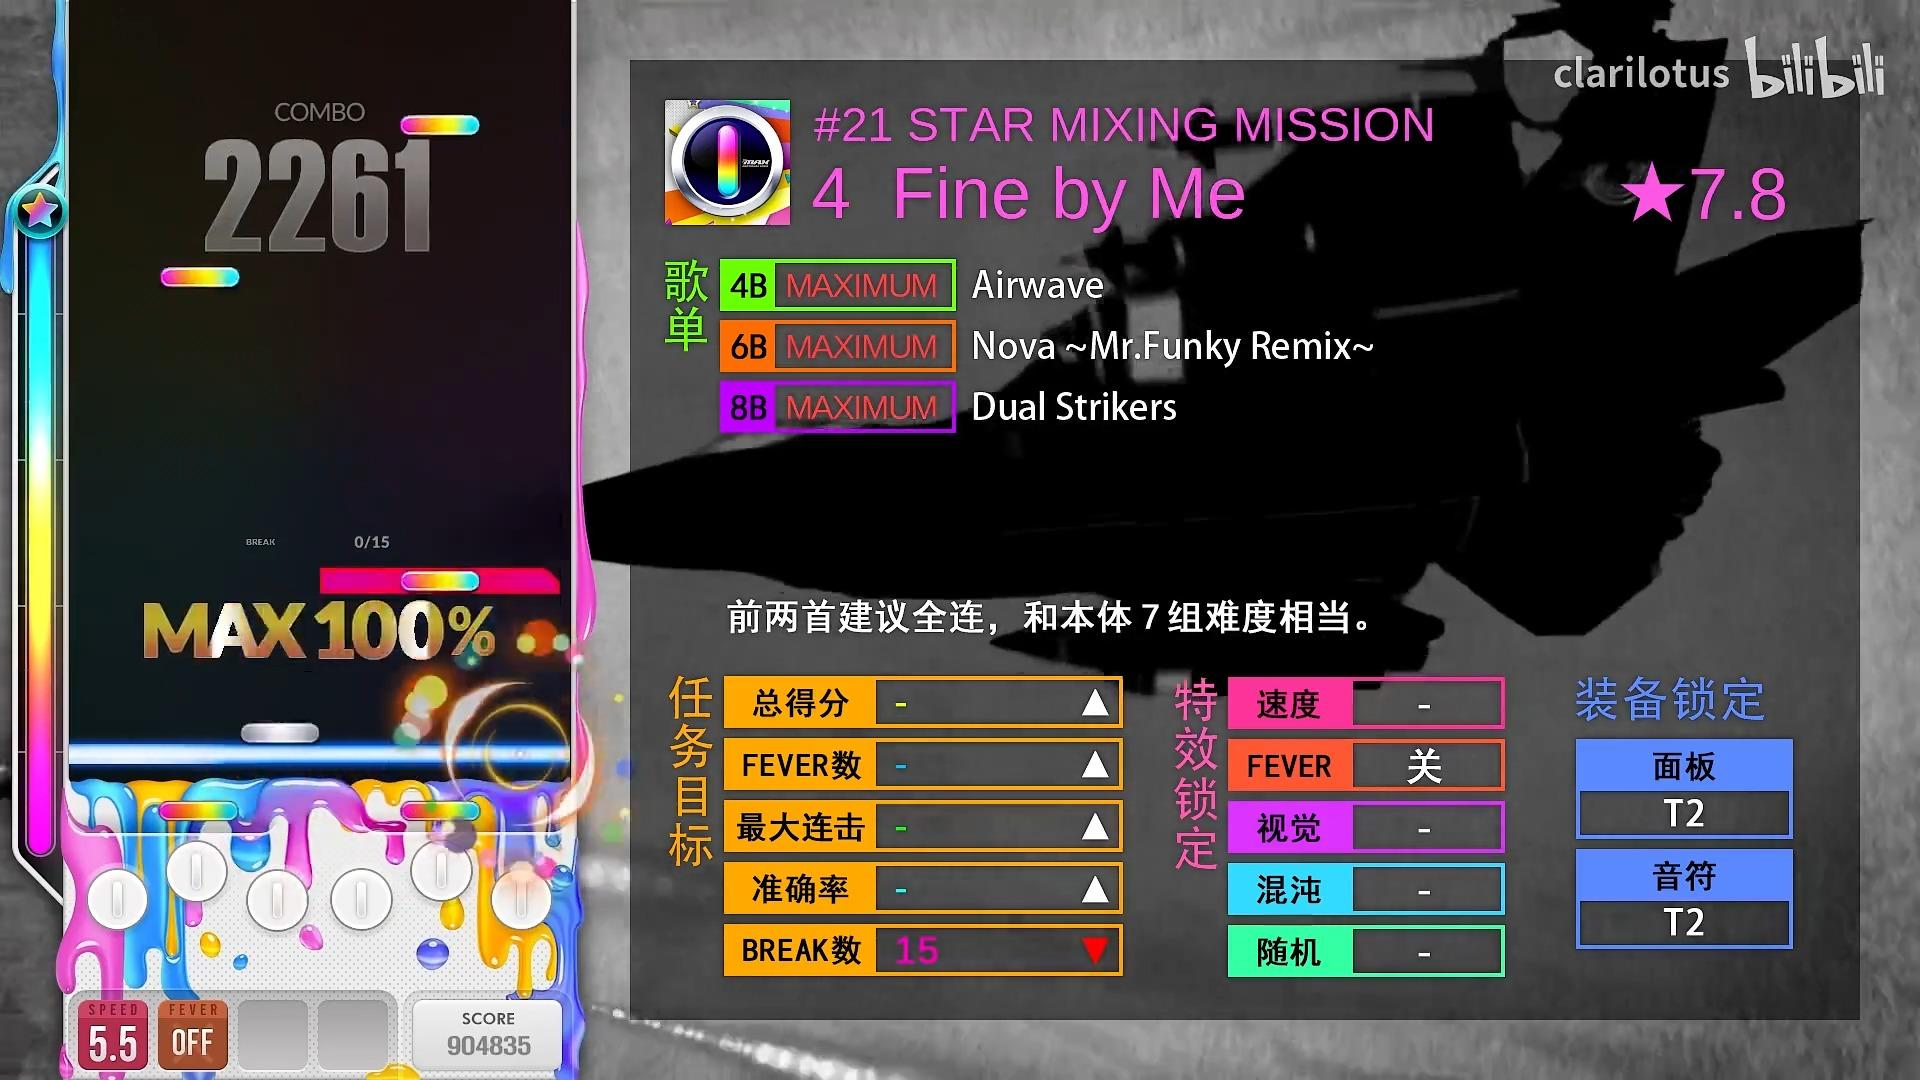note: (400, 568, 481, 592), (240, 723, 319, 745), (401, 113, 479, 136), (161, 266, 240, 287)
xnote: (320, 566, 559, 593)
